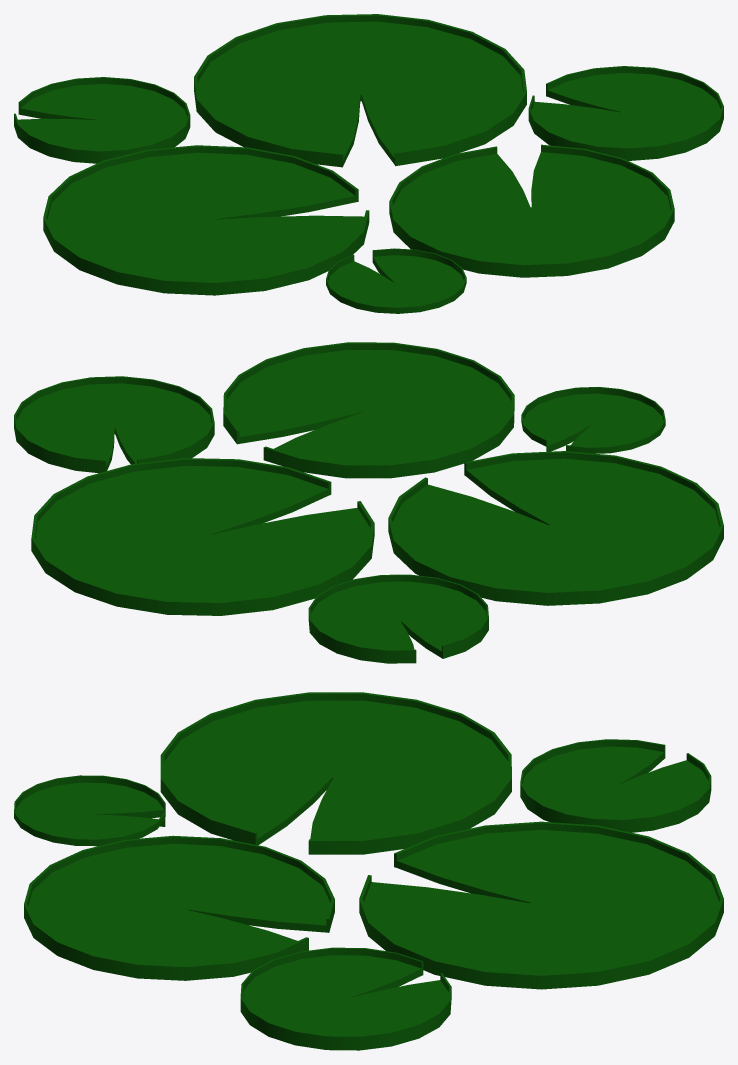
The model's file is lilypad1.glb.
The picture shows the model from 3 angles, top to bottom: view 1: azimuth 30°, elevation 25°; view 2: azimuth 150°, elevation 25°; view 3: azimuth 270°, elevation 25°; orthographic projection. The views are drawn at different scales.
Visible parts, largest first — view 1: Object_2.024; view 2: Object_2.024; view 3: Object_2.024.
Part boxes in pixels (<box>): Object_2.024: <box>14,14,723,313</box>; Object_2.024: <box>14,342,723,663</box>; Object_2.024: <box>14,692,723,1050</box>.
Size of the model in its own units: 5.7 by 0.1057 by 4.97.
1 material, 1 textured.
